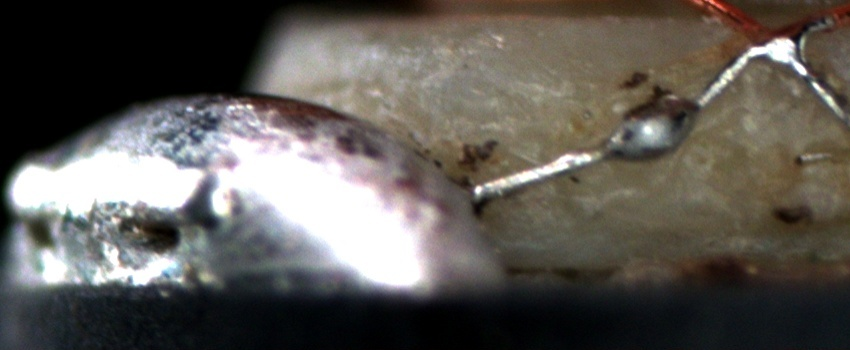CL: (719, 8, 817, 80)
TB: (607, 97, 702, 165)
TTCW: (468, 9, 846, 202)
